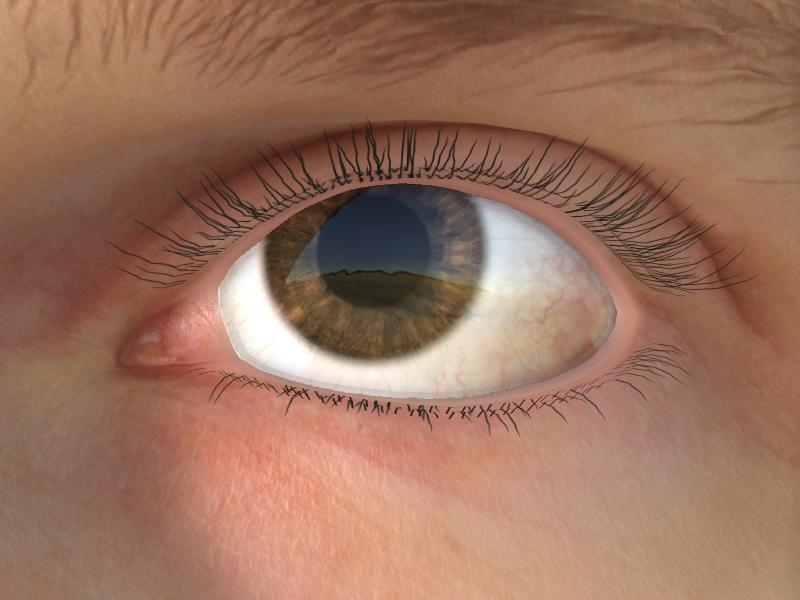eye: (266, 184, 485, 362)
